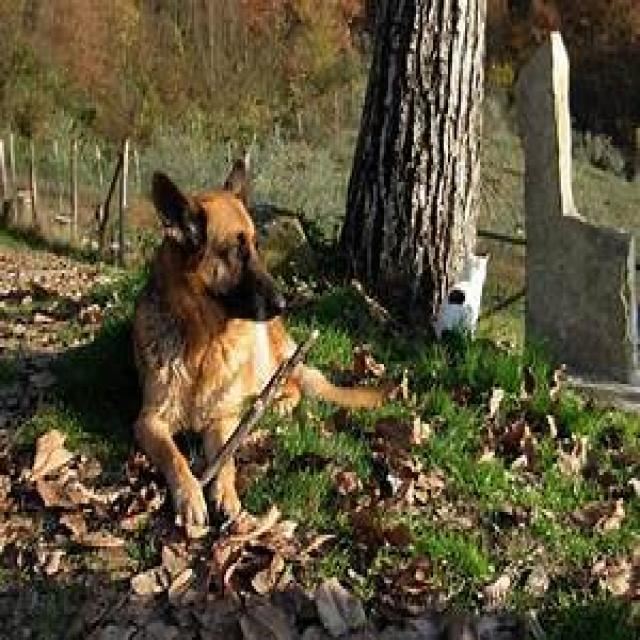cat: (435, 252, 490, 340)
dog: (128, 154, 400, 541)
